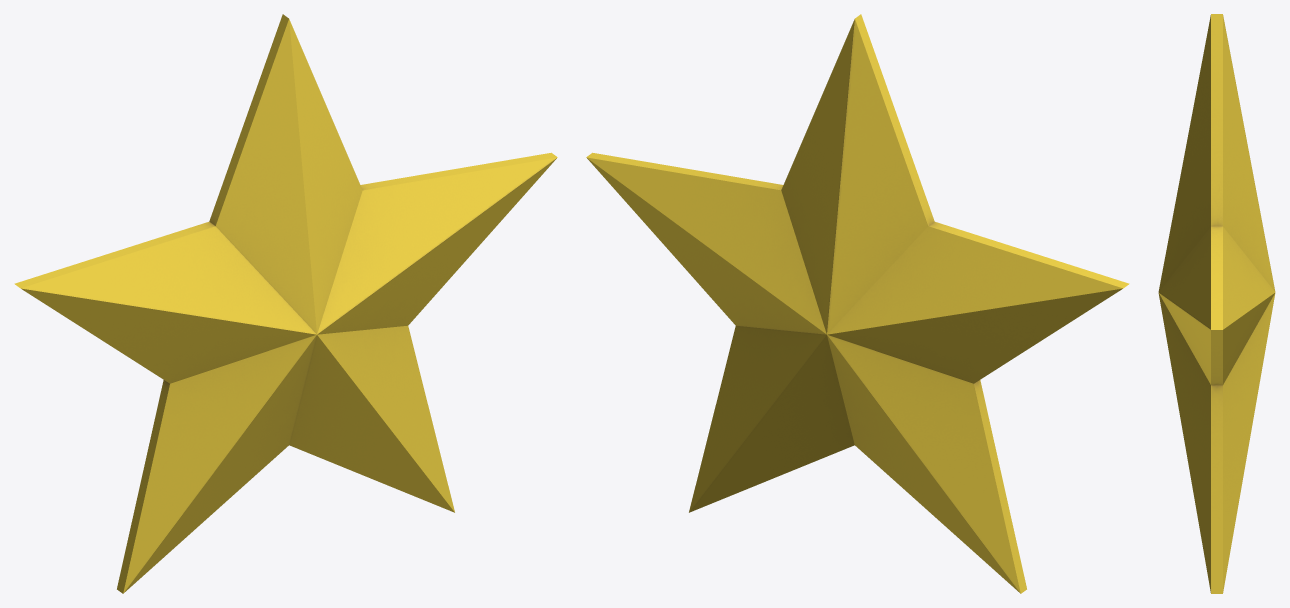
The model's file is Shatterred star.fbx.
The picture shows the model from 3 angles, left to right: view 1: azimuth 30°, elevation 25°; view 2: azimuth 150°, elevation 25°; view 3: azimuth 270°, elevation 25°; orthographic projection. The views are drawn at different scales.
Parts seen in each view (by area): view 1: Star, Star_cell.016, Star_cell.004, Star_cell.006, Star_cell.020, Star_cell.010, Star_cell.015, Star_cell, Star_cell.008, Star_cell.018; view 2: Star, Star_cell.018, Star_cell.007, Star_cell.006, Star_cell.008, Star_cell.019, Star_cell.012, Star_cell.009, Star_cell.002, Star_cell.016, Star_cell.010; view 3: Star, Star_cell.008, Star_cell.004, Star_cell.010, Star_cell.016, Star_cell.007, Star_cell.002, Star_cell.019, Star_cell.020, Star_cell.015.
Part boxes in pixels (box(x1,y1,x2,y2)): Star: box(14, 17, 557, 593); Star_cell.016: box(116, 122, 340, 317); Star_cell.004: box(313, 106, 523, 242); Star_cell.006: box(78, 287, 246, 431); Star_cell.020: box(246, 228, 390, 404); Star_cell.010: box(245, 14, 326, 139); Star_cell.015: box(420, 154, 557, 253); Star_cell: box(17, 258, 117, 325); Star_cell.008: box(381, 235, 474, 301); Star_cell.018: box(132, 430, 158, 528); Star: box(586, 14, 1122, 590); Star_cell.018: box(851, 361, 1012, 524); Star_cell.007: box(707, 381, 866, 486); Star_cell.006: box(860, 300, 1062, 434); Star_cell.008: box(659, 212, 758, 437); Star_cell.019: box(744, 273, 860, 394); Star_cell.012: box(917, 501, 1026, 593); Star_cell.009: box(754, 421, 898, 486); Star_cell.002: box(689, 442, 751, 512); Star_cell.016: box(893, 123, 1032, 257); Star_cell.010: box(855, 15, 898, 125); Star: box(1158, 14, 1275, 593); Star_cell.008: box(1174, 276, 1249, 510); Star_cell.004: box(1189, 122, 1222, 313); Star_cell.010: box(1191, 14, 1222, 131); Star_cell.016: box(1171, 121, 1197, 233); Star_cell.007: box(1219, 395, 1257, 520); Star_cell.002: box(1211, 511, 1235, 593); Star_cell.019: box(1185, 263, 1264, 414); Star_cell.020: box(1162, 227, 1195, 342); Star_cell.015: box(1182, 293, 1222, 359).
Size of the model in its own units: 5724 by 5444 by 1146.
